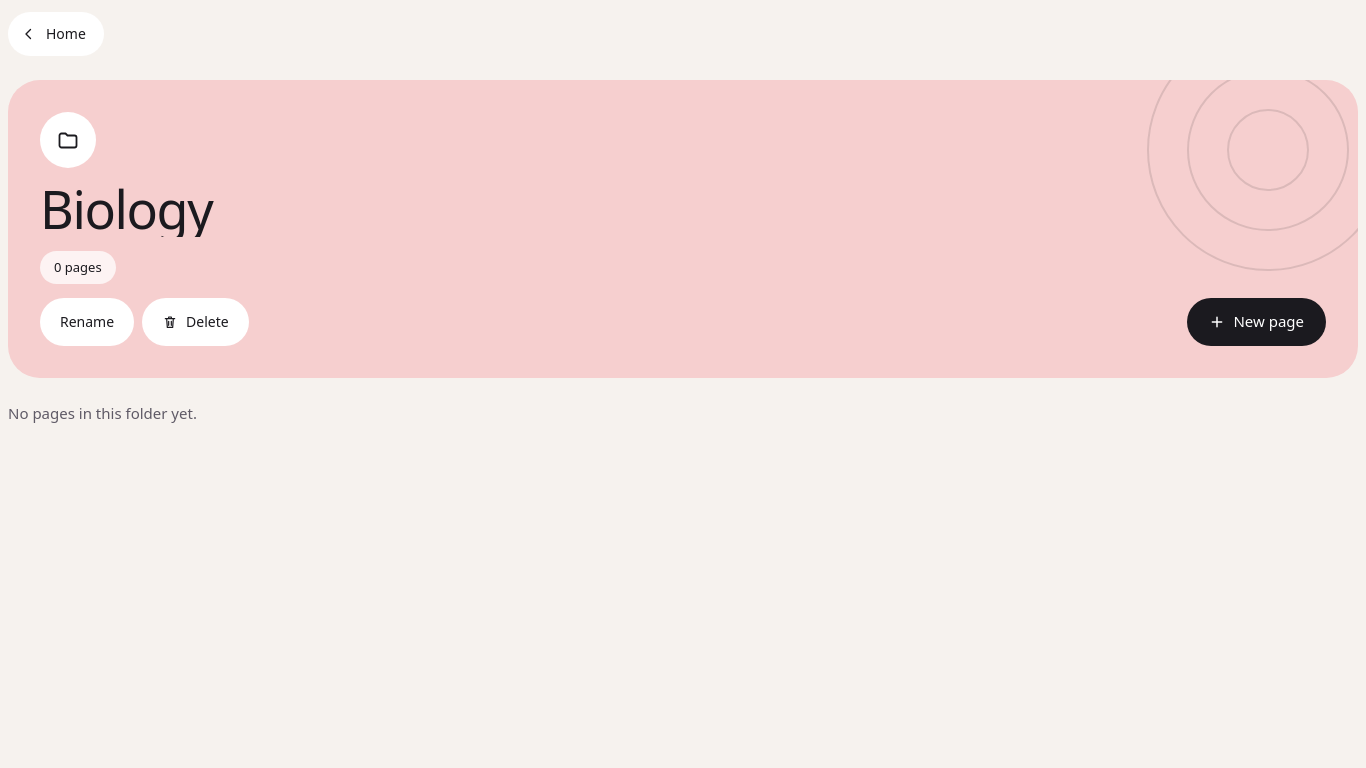
Scenario: FolderView › confirms before deleting an empty folder, naming it, and shows a server refusal
Click the button "Delete" at x=195, y=322, box [142,298,249,346]
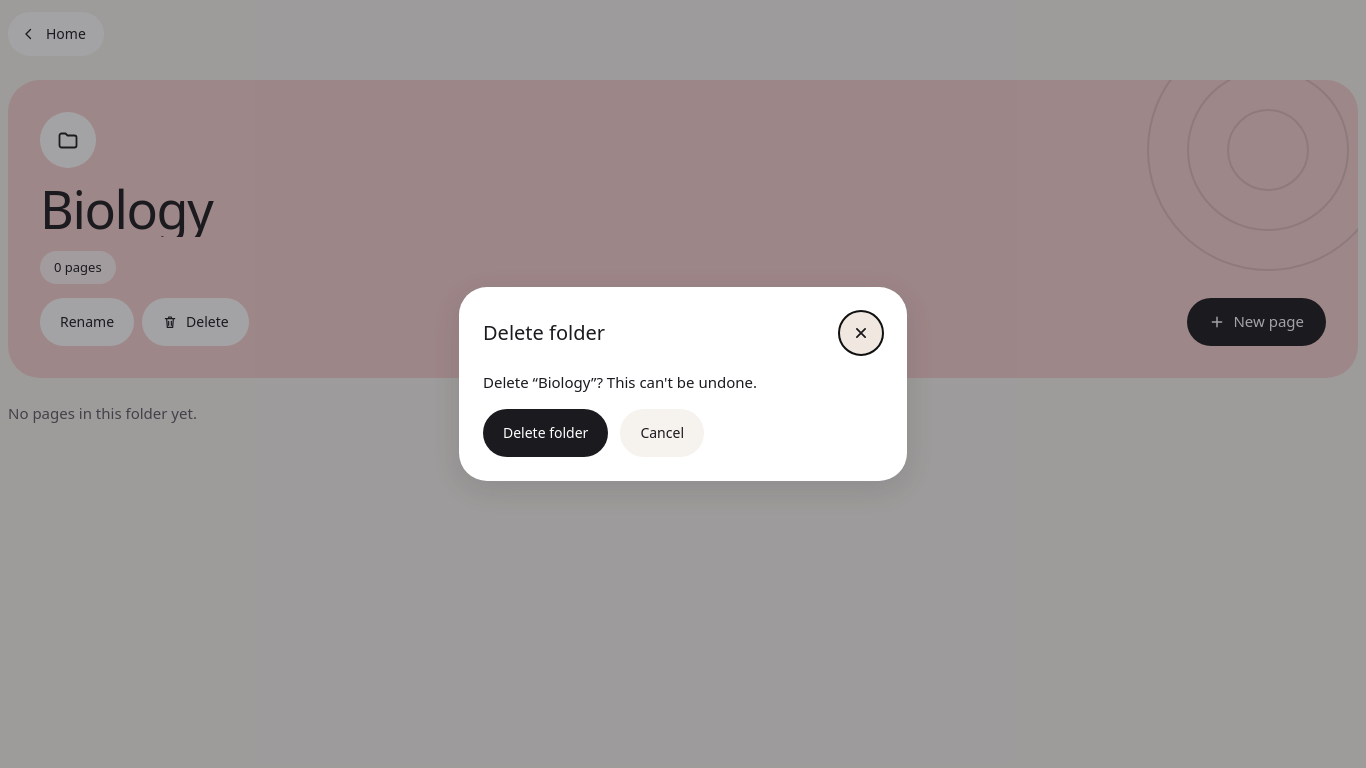
Result: the dialog shows "Delete “Biology”? This can't be undone." at [483,372,757,392]
Click the button "Delete folder" at x=546, y=433, box [483,409,608,457]
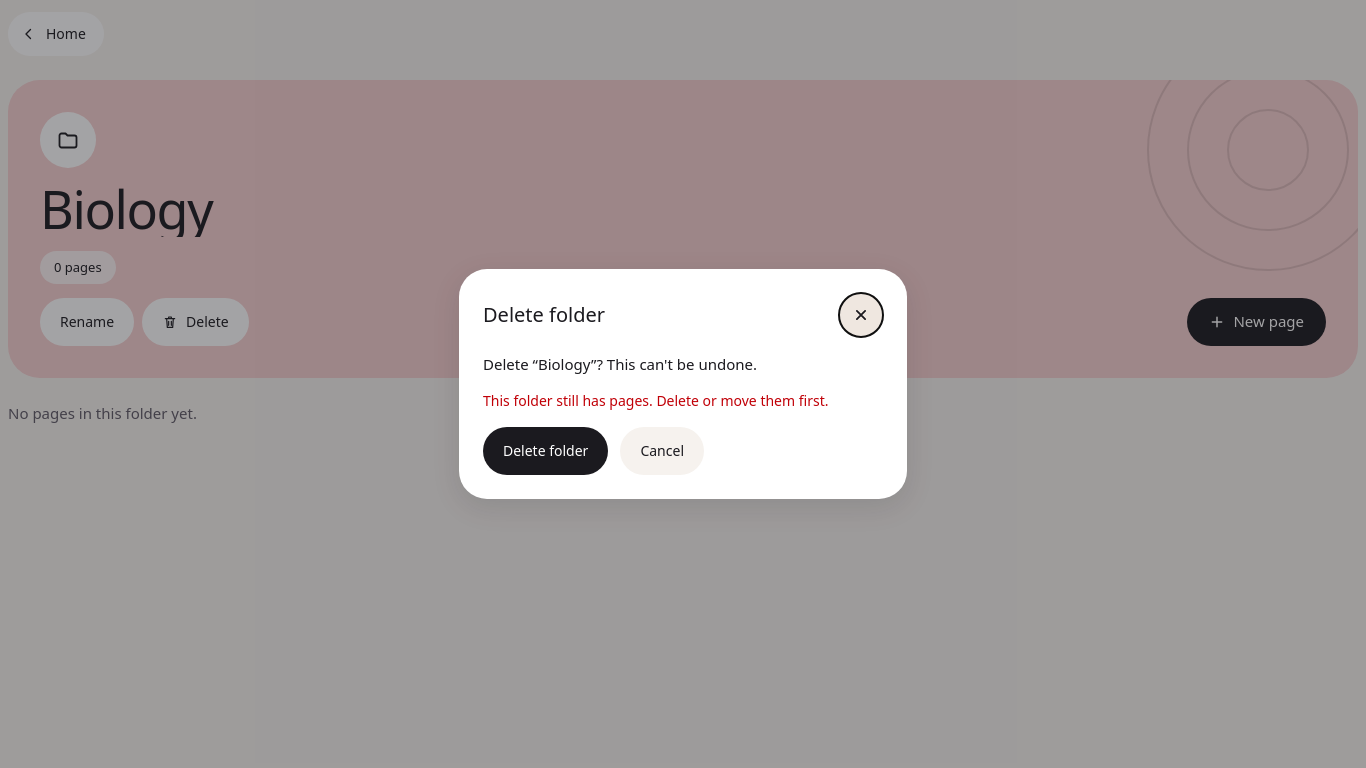
Result: the message reads "This folder still has pages. Delete or move them first." at [483,391,828,410]
